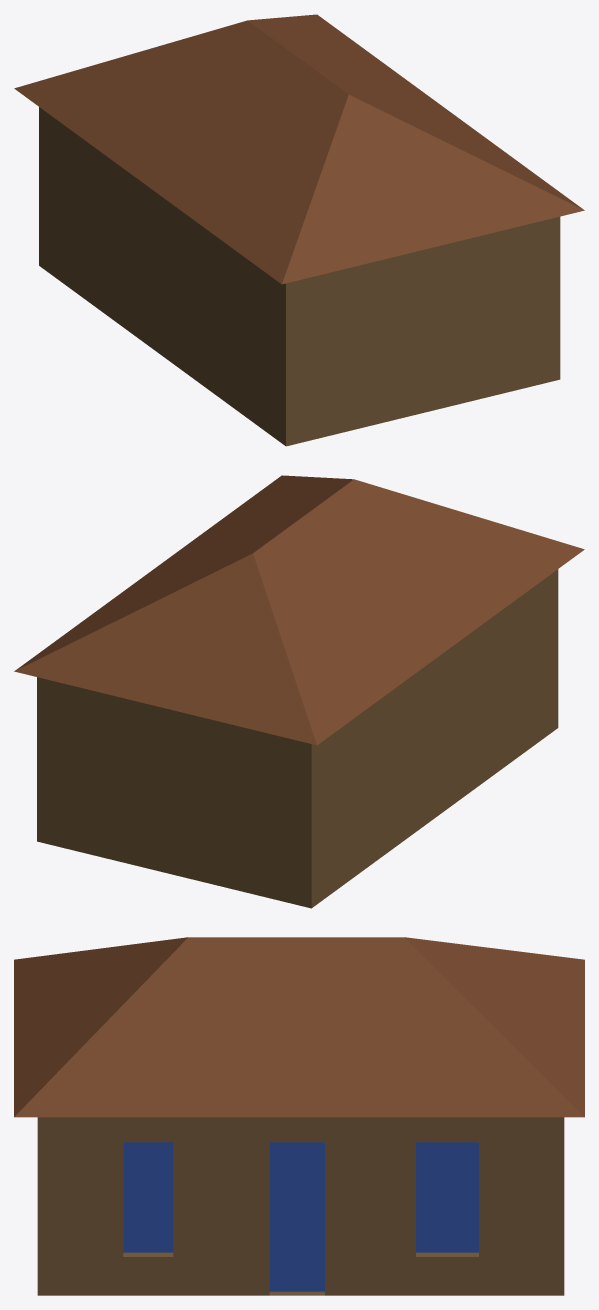
File: Cochero_House6.fbx
3 views of the same model, one above another, from view 1: azimuth 30°, elevation 25°; view 2: azimuth 150°, elevation 25°; view 3: azimuth 270°, elevation 25° (orthographic). The views are drawn at different scales.
Visible parts, largest first — view 1: Cube; view 2: Cube; view 3: Cube.
Boxes of the visible parts, x1,y1,x2,y2 form: Cube: (14, 14, 584, 446); Cube: (14, 475, 584, 908); Cube: (14, 937, 584, 1295).
Size of the model in its own units: 874 by 737 by 1337.
